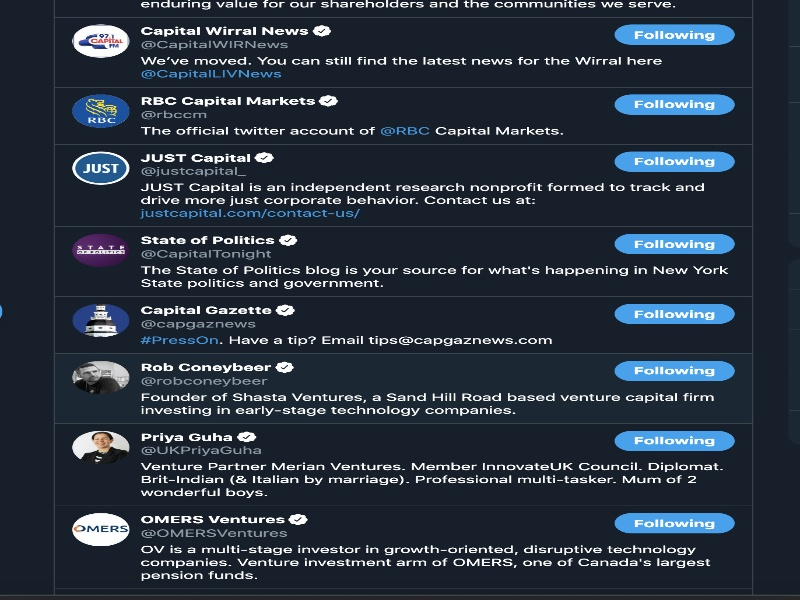follbut: (611, 231, 739, 256), (613, 301, 736, 326), (611, 511, 738, 535), (613, 150, 738, 174), (614, 429, 736, 453), (612, 94, 736, 117), (614, 360, 736, 383), (612, 23, 737, 45)
